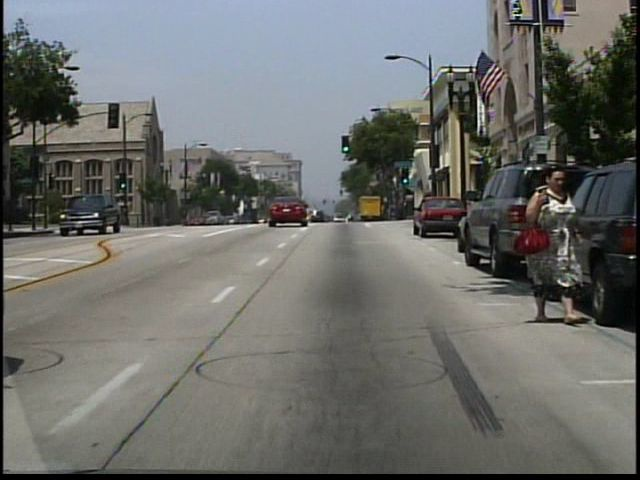person: (522, 158, 593, 326)
